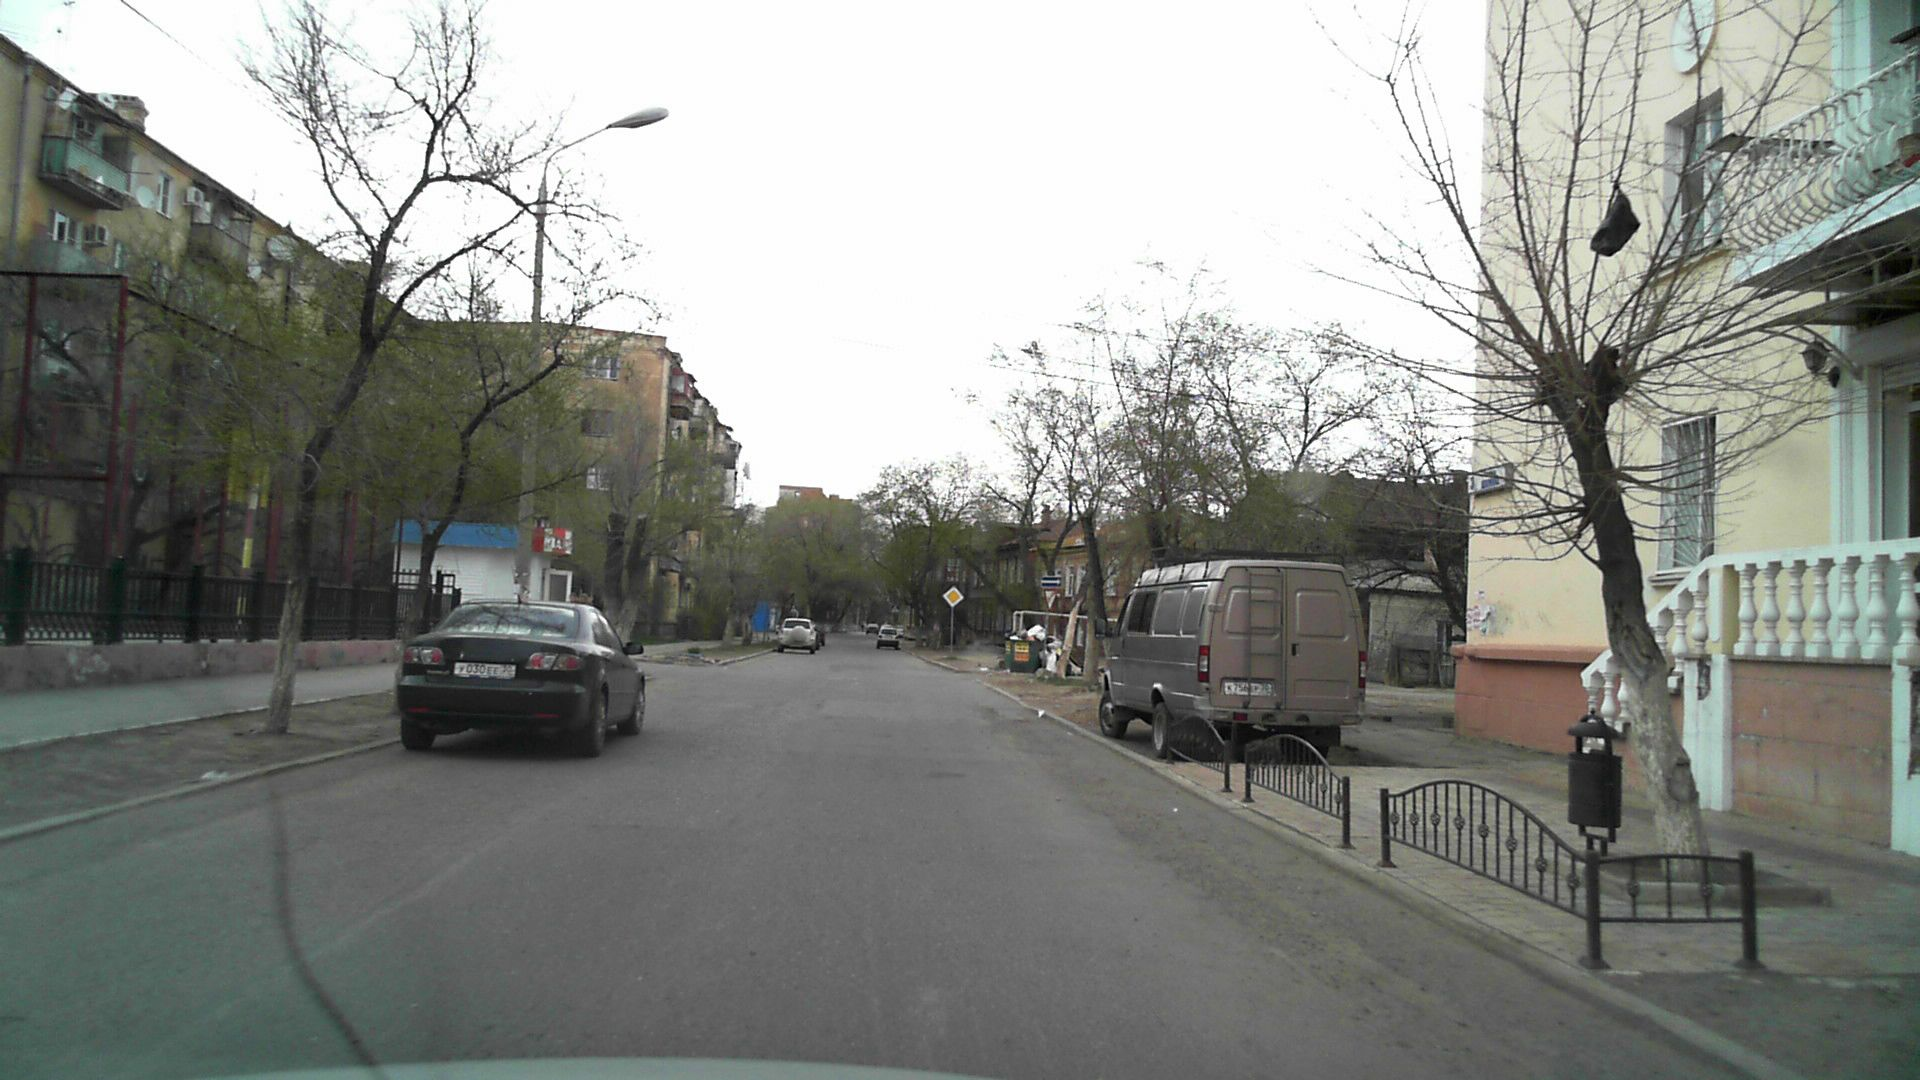Main Road: (942, 585, 964, 607)
One-Way Traffic: (1040, 576, 1062, 587)
